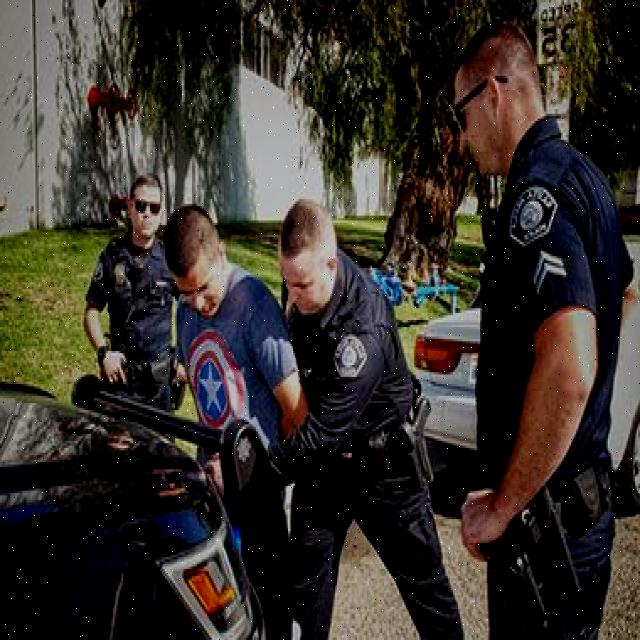police: (438, 14, 631, 640), (275, 180, 458, 640), (72, 170, 185, 424)
